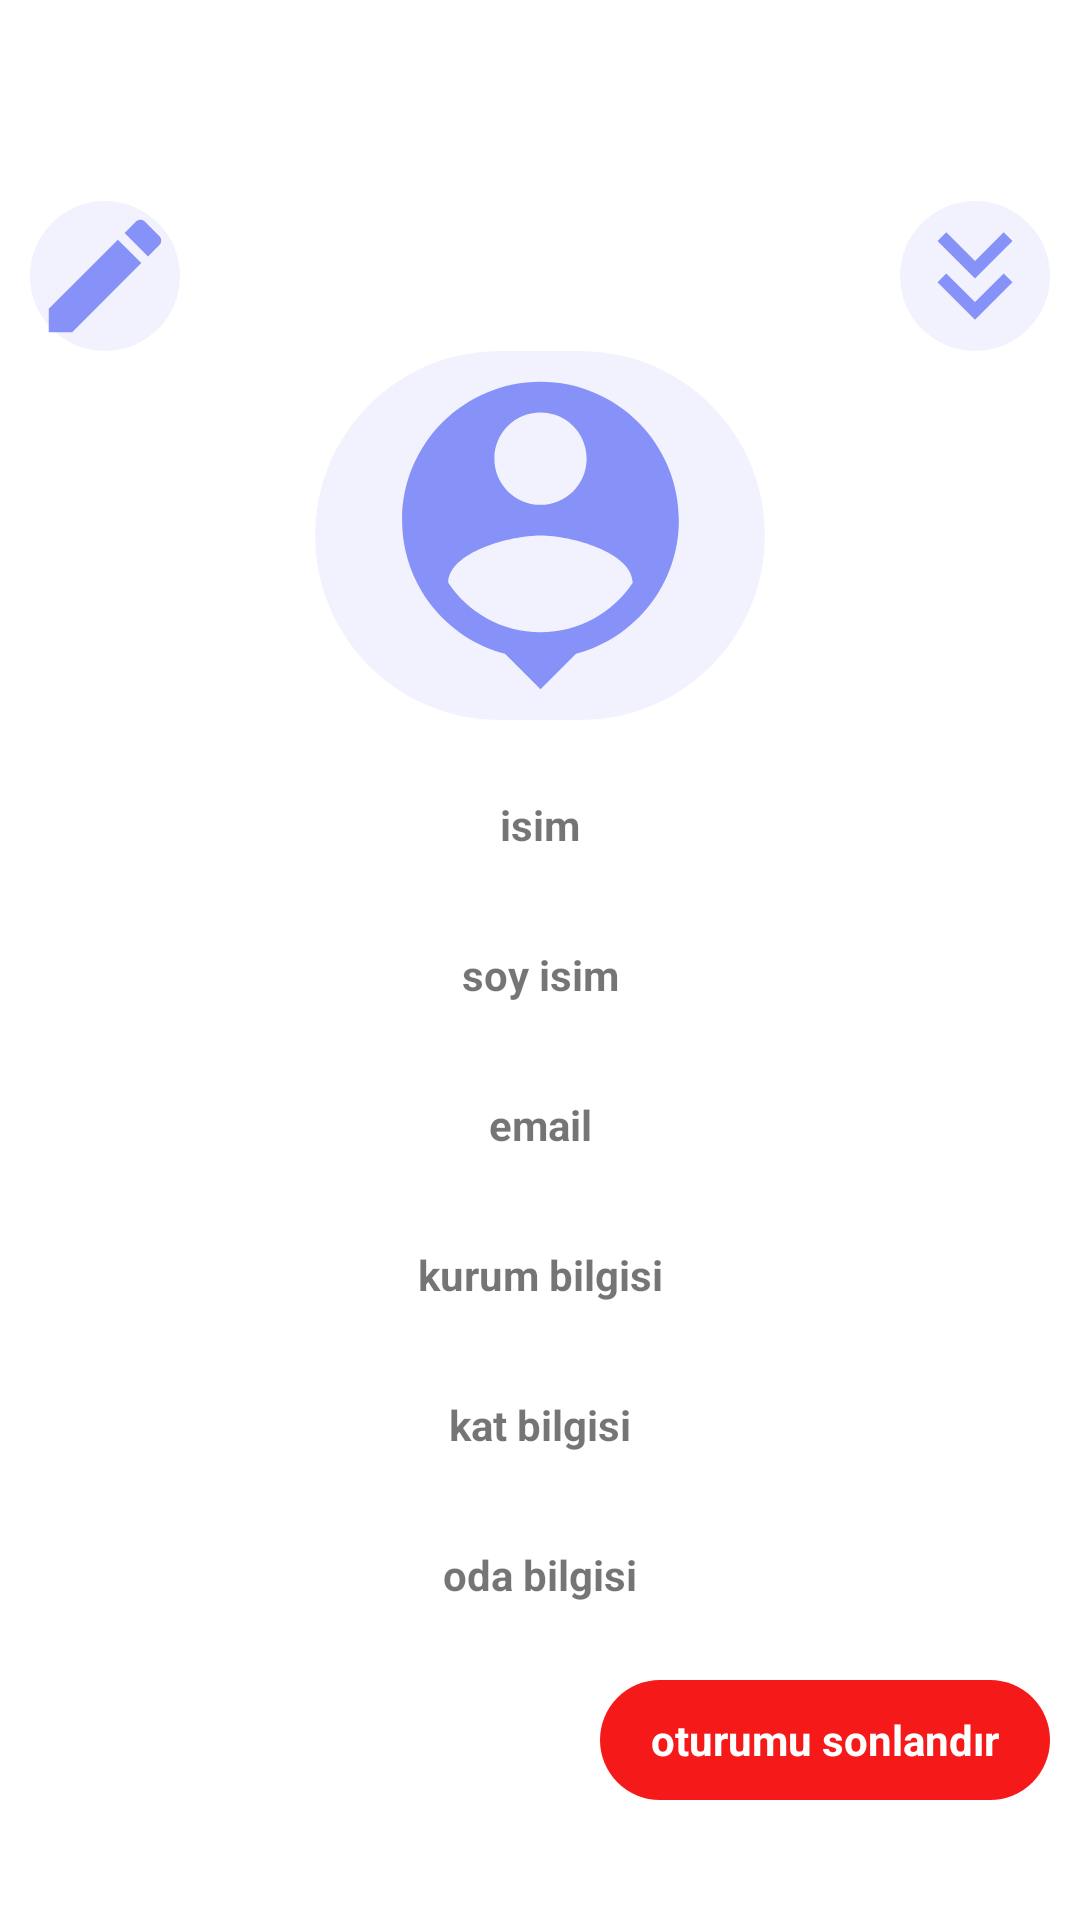

Where to tap for icons on this 1080w x 1920h app screen, as (x=x, y=y):
create: (x=105, y=276)
down: (x=975, y=276)
